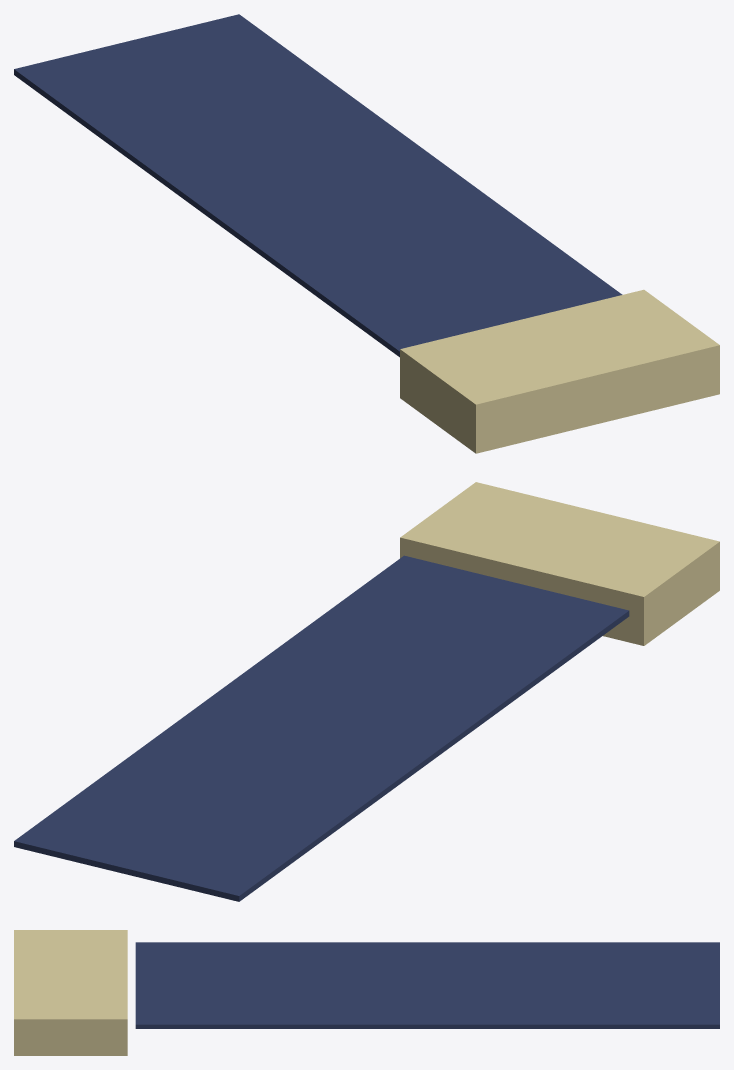
The model's file is sat_leo.glb.
The picture shows the model from 3 angles, top to bottom: view 1: azimuth 30°, elevation 25°; view 2: azimuth 150°, elevation 25°; view 3: azimuth 270°, elevation 25°; orthographic projection. The views are drawn at different scales.
Parts seen in each view (by area): view 1: Array, Bus; view 2: Array, Bus; view 3: Array, Bus.
Part boxes in pixels (x1,y1,x2,y2): Array: (14, 14, 622, 357); Bus: (400, 289, 719, 453); Array: (14, 555, 629, 901); Bus: (400, 482, 719, 645); Array: (135, 942, 719, 1028); Bus: (14, 930, 127, 1055).
Bounding box in the file's own units: 1.3 × 0.315 × 4.35.
